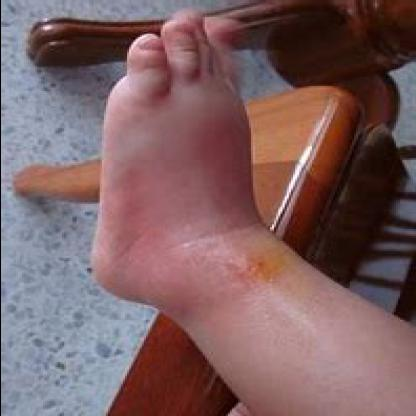Wasp: (112, 116, 254, 310)
